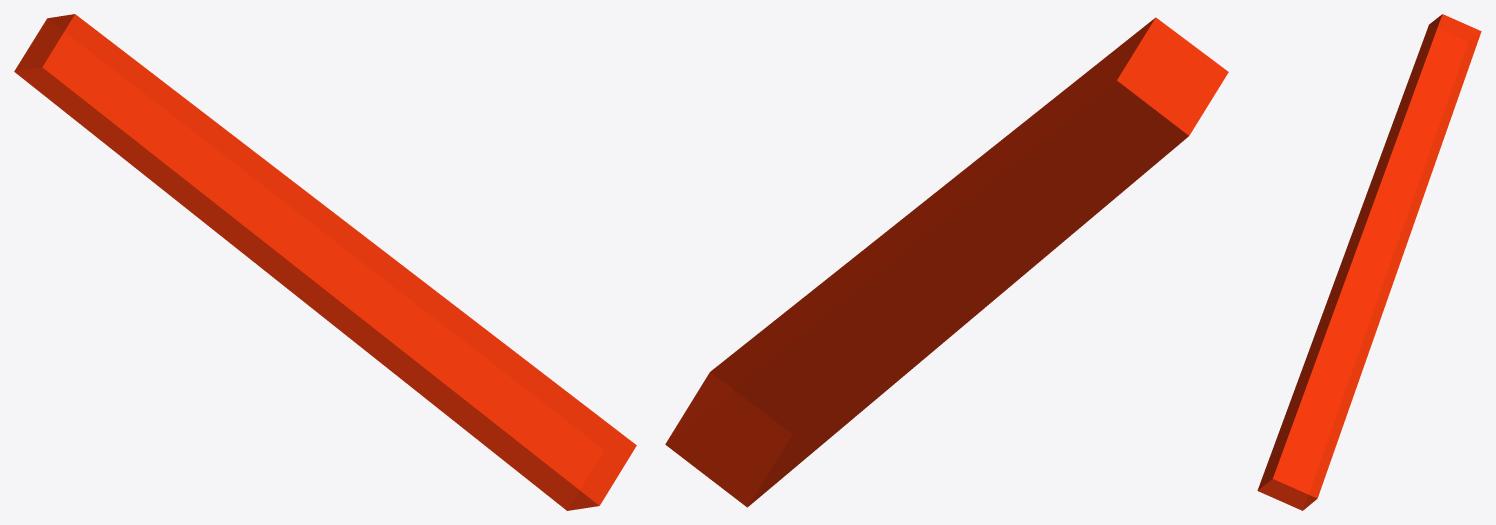
The model's file is Event_421556567_EBrechit_21.fbx.
3 views of the same model, side by side, from view 1: azimuth 30°, elevation 25°; view 2: azimuth 150°, elevation 25°; view 3: azimuth 270°, elevation 25° (orthographic). The views are drawn at different scales.
Parts seen in each view (by area): view 1: Model; view 2: Model; view 3: Model.
Part boxes in pixels (box(x1,y1,x2,y2)): Model: box(14, 14, 636, 510); Model: box(665, 17, 1228, 507); Model: box(1257, 14, 1481, 510).
Bounding box in the file's own units: 0.4962 × 0.5102 × 0.2854.
